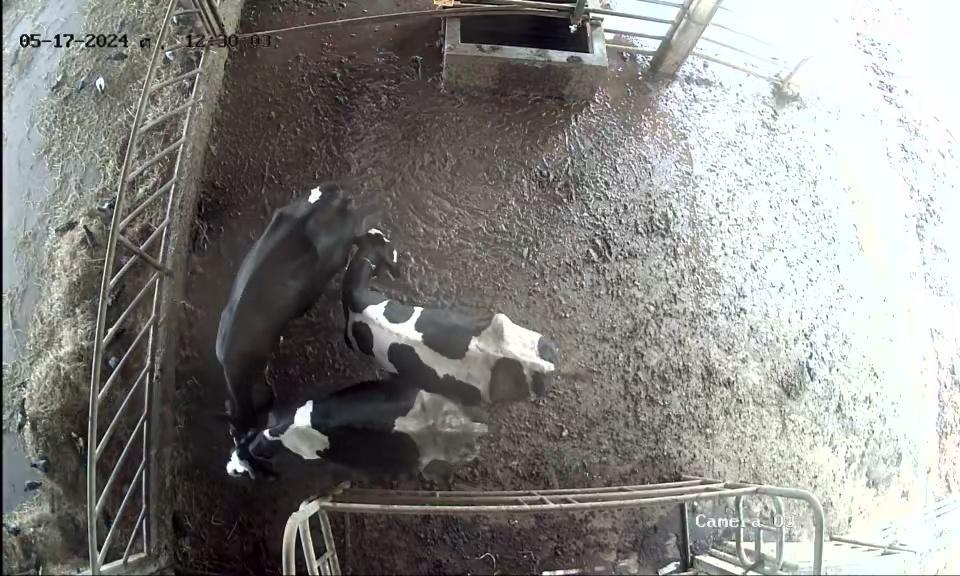stand: (347, 219, 560, 409), (202, 172, 352, 432), (199, 380, 491, 492)
